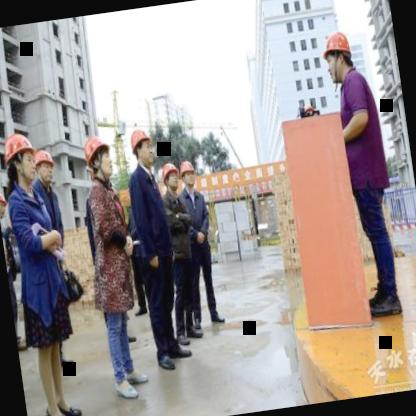helmet: (0, 126, 40, 189), (315, 28, 356, 86), (82, 130, 118, 184), (28, 140, 58, 192), (128, 125, 156, 169), (159, 158, 181, 195), (177, 152, 197, 191), (0, 188, 8, 219)
